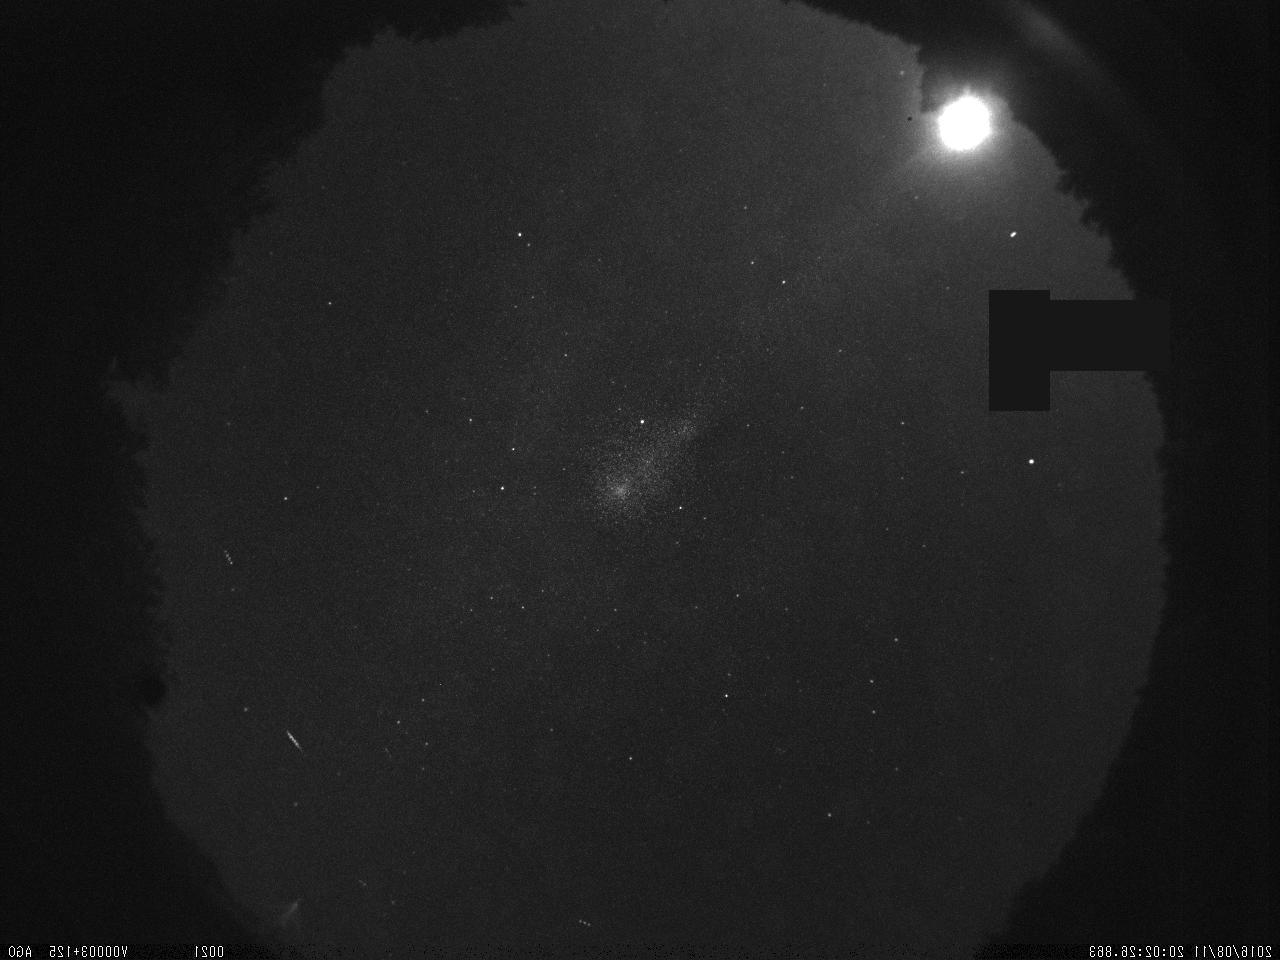meteor: (278, 721, 313, 766)
